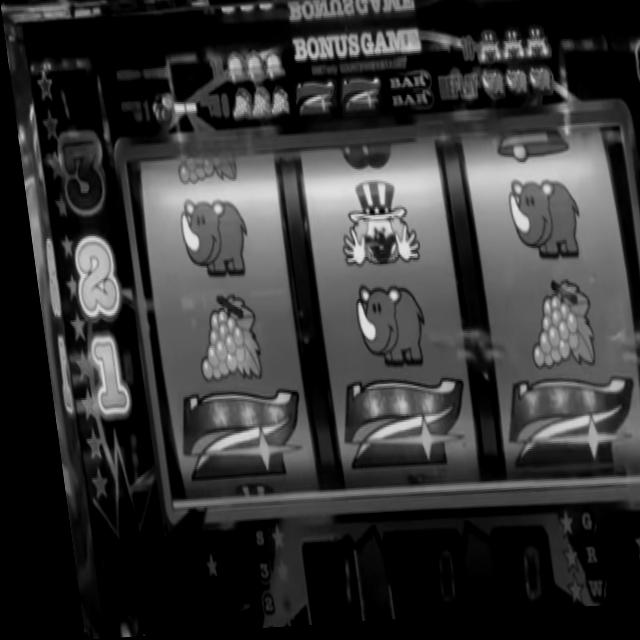bar: (380, 72, 431, 117)
bell: (489, 134, 568, 172), (220, 54, 245, 89), (243, 53, 265, 88), (262, 51, 284, 86)
cherry: (334, 144, 389, 175), (148, 94, 171, 129)
clown: (327, 180, 414, 272), (519, 32, 549, 71), (473, 36, 500, 71), (497, 36, 522, 67)
display: (118, 125, 640, 516)
elephant: (497, 179, 578, 271), (343, 284, 420, 375), (170, 197, 246, 283), (477, 71, 503, 109), (501, 71, 526, 106), (525, 71, 551, 104)
grape: (512, 280, 588, 379), (181, 291, 255, 389), (171, 154, 234, 189), (226, 95, 249, 126), (267, 90, 287, 123), (247, 93, 268, 122)
z: (323, 377, 463, 486), (488, 377, 630, 480), (163, 388, 297, 488), (334, 74, 381, 121), (289, 81, 336, 125)
